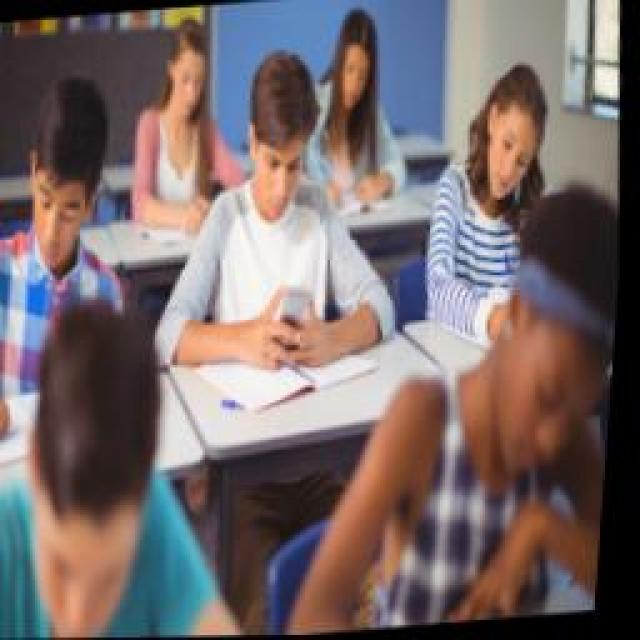phone: (145, 42, 413, 382)
study: (0, 73, 150, 425), (412, 60, 598, 330), (280, 5, 422, 227)
